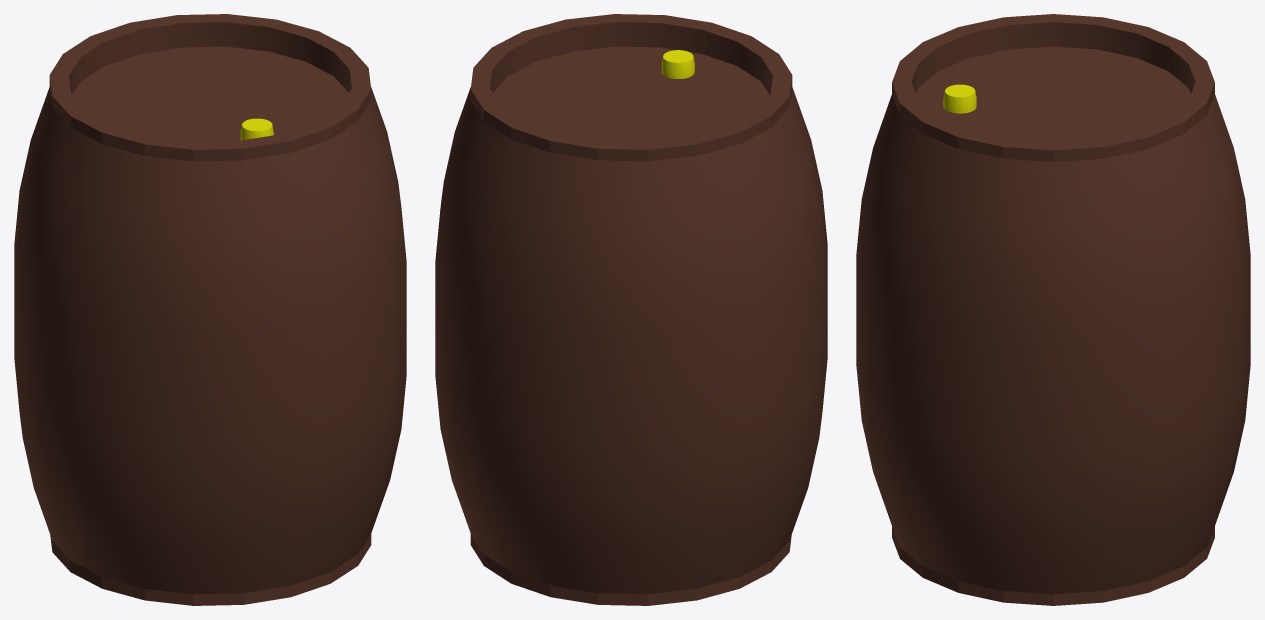
The model's file is barrell export.fbx.
The picture shows the model from 3 angles, left to right: view 1: azimuth 30°, elevation 25°; view 2: azimuth 150°, elevation 25°; view 3: azimuth 270°, elevation 25°; orthographic projection.
Parts seen in each view (by area): view 1: pCylinder3, pCylinder2; view 2: pCylinder3, pCylinder2; view 3: pCylinder3, pCylinder2.
Boxes of the visible parts, x1,y1,x2,y2 form: pCylinder3: (14, 14, 406, 605); pCylinder2: (240, 118, 273, 140); pCylinder3: (435, 14, 827, 605); pCylinder2: (661, 50, 694, 78); pCylinder3: (856, 14, 1250, 605); pCylinder2: (943, 84, 976, 113).
Bounding box in the file's own units: 1.37e-05 × 1.75e-05 × 1.37e-05.
